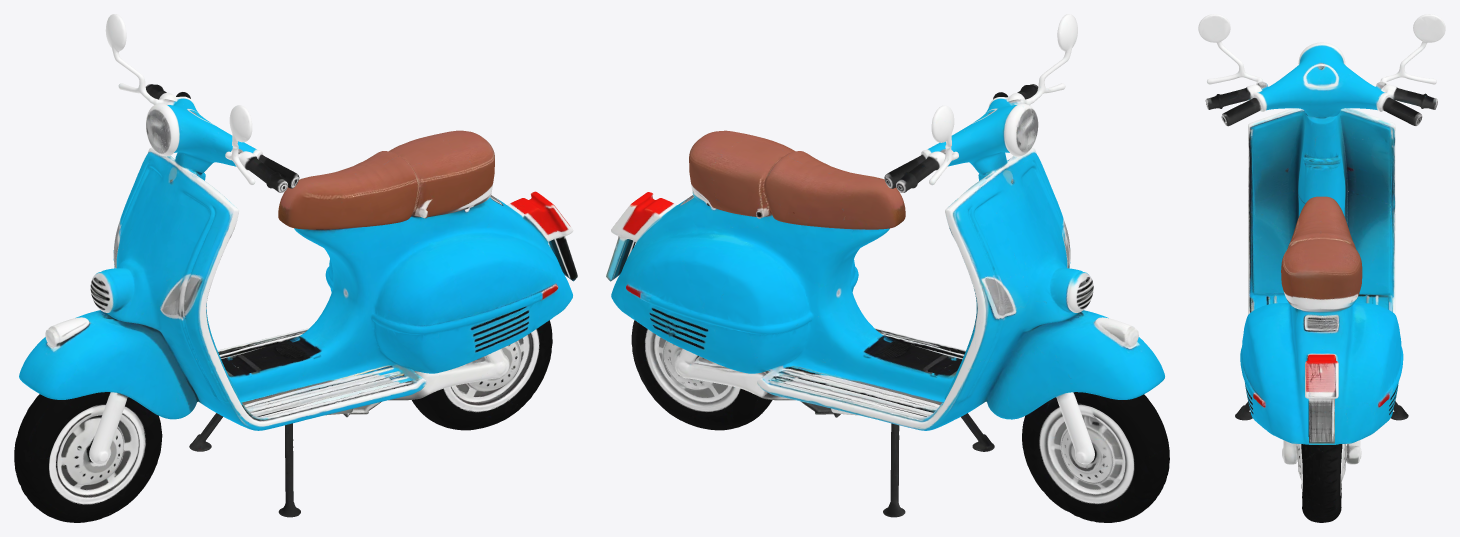
File: vespa-sprint.glb
3 views of the same model, side by side, from view 1: azimuth 30°, elevation 25°; view 2: azimuth 150°, elevation 25°; view 3: azimuth 270°, elevation 25° (orthographic). The views are drawn at different scales.
Bounding box in the file's own units: 1.9 × 1.44 × 0.8537.
Materials: 1 (1 with a texture image).
